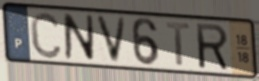6: (130, 16, 162, 68)
C: (28, 9, 64, 61)
N: (62, 12, 96, 63)
R: (194, 21, 231, 72)
T: (165, 22, 192, 68)
V: (93, 13, 129, 66)
